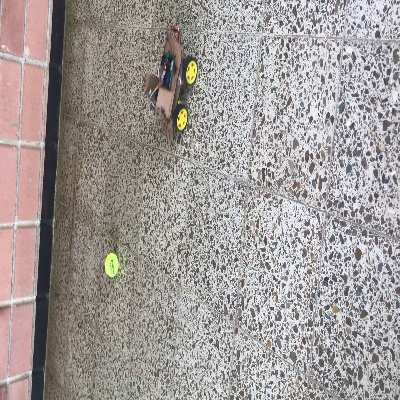Ball: (103, 253, 117, 277)
Robot: (144, 25, 197, 139)
